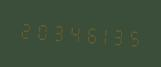five: (129, 23, 144, 51)
four: (65, 18, 80, 46)
one: (97, 21, 112, 49)
six: (81, 20, 96, 48)
three: (49, 17, 64, 45), (113, 22, 128, 50)
two: (17, 15, 32, 43)
zero: (33, 16, 48, 44)
